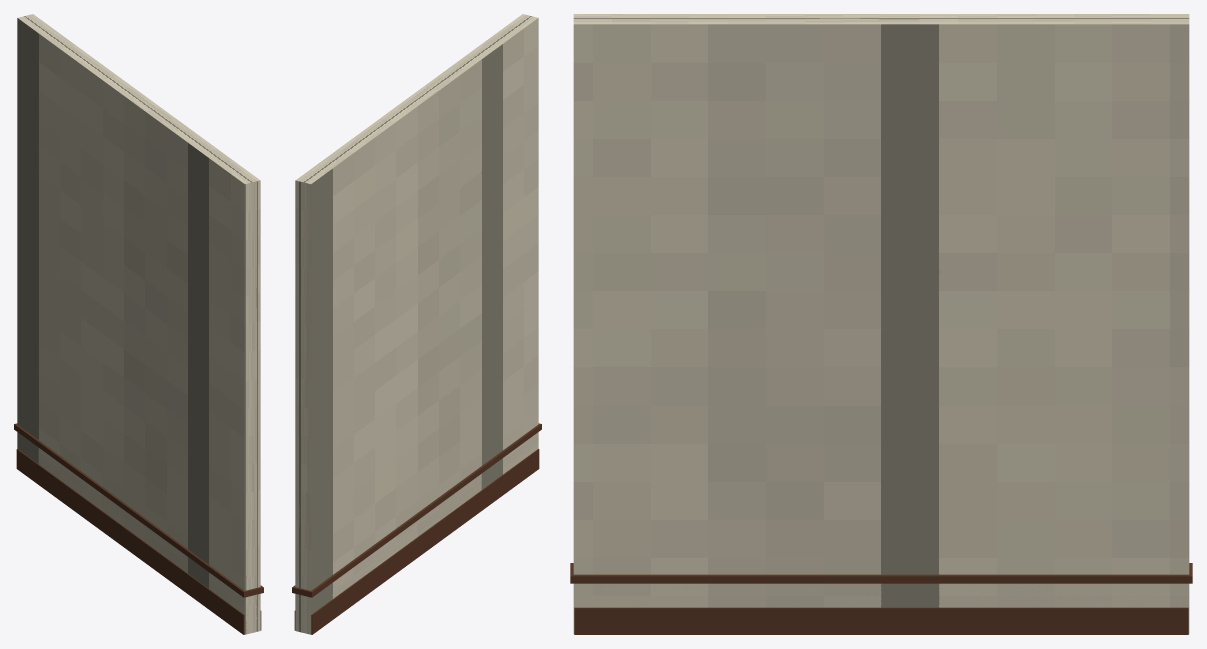
File: stair_side.glb
3 views of the same model, side by side, from view 1: azimuth 30°, elevation 25°; view 2: azimuth 150°, elevation 25°; view 3: azimuth 270°, elevation 25° (orthographic). The views are drawn at different scales.
Visible parts, largest first — view 1: Box1, Box2, Box4, Box3; view 2: Box1, Box2, Box3, Box4; view 3: Box1, Box2, Box4, Box3.
Part boxes in pixels (x1,y1,x2,y2): Box1: [17, 14, 260, 634]; Box2: [16, 449, 261, 634]; Box4: [14, 423, 263, 597]; Box3: [17, 432, 260, 633]; Box1: [295, 14, 538, 634]; Box2: [294, 449, 539, 634]; Box3: [295, 432, 538, 633]; Box4: [292, 423, 541, 597]; Box1: [573, 14, 1189, 633]; Box2: [574, 607, 1188, 634]; Box4: [570, 563, 1192, 583]; Box3: [573, 583, 1188, 619].
Bounding box in the file's own units: 0.19 × 4.1 × 3.79.
2 materials, 1 textured.
